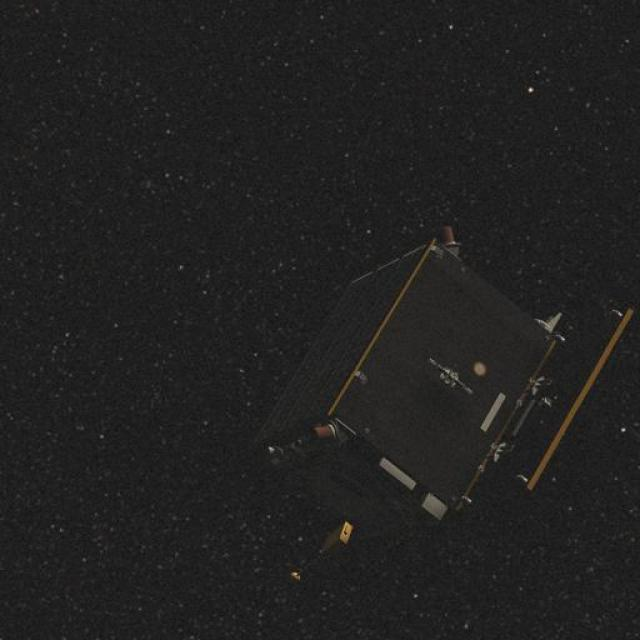proba_2: (265, 213, 640, 548)
